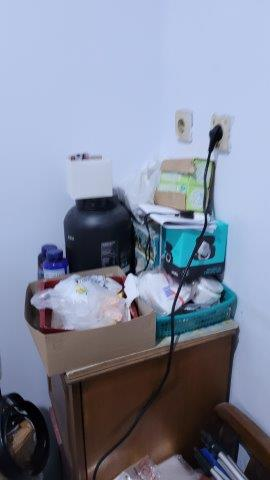plastik: (29, 274, 123, 328)
